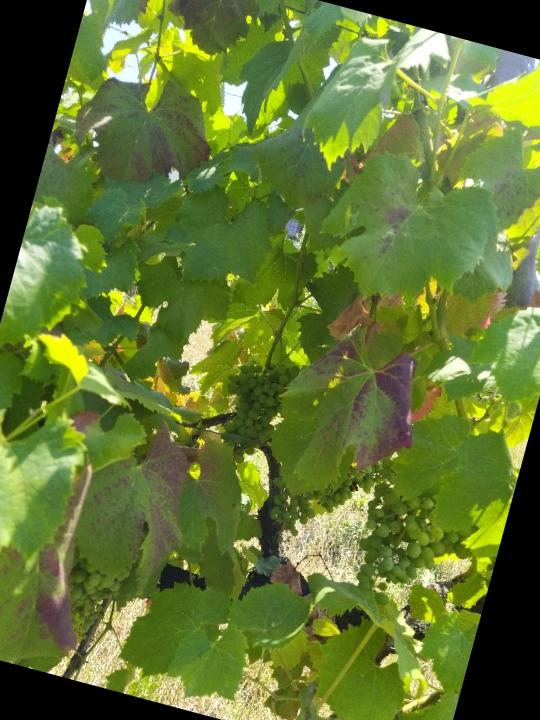grape: (342, 475, 484, 625), (207, 348, 301, 471)
